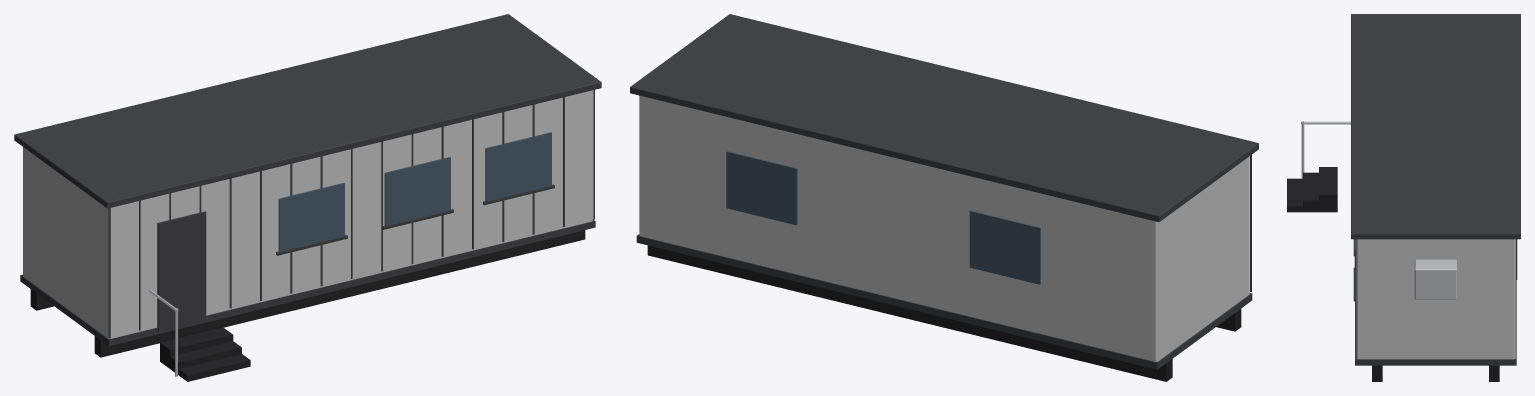
The model's file is site_office.glb.
The picture shows the model from 3 angles, left to right: view 1: azimuth 30°, elevation 25°; view 2: azimuth 150°, elevation 25°; view 3: azimuth 270°, elevation 25°; orthographic projection. The views are drawn at different scales.
Visible parts, largest first — view 1: Body_LOD0; view 2: Body_LOD0; view 3: Body_LOD0.
Boxes of the visible parts, <box> form: Body_LOD0: <box>14,14,601,381</box>; Body_LOD0: <box>630,14,1258,381</box>; Body_LOD0: <box>1287,14,1520,381</box>.
Bounding box in the file's own units: 10.15 × 3.12 × 4.4.
